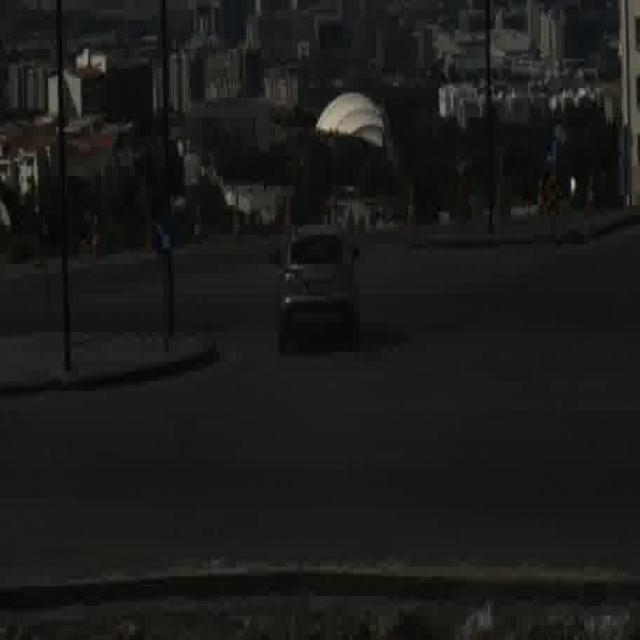Car: (276, 225, 357, 354)
